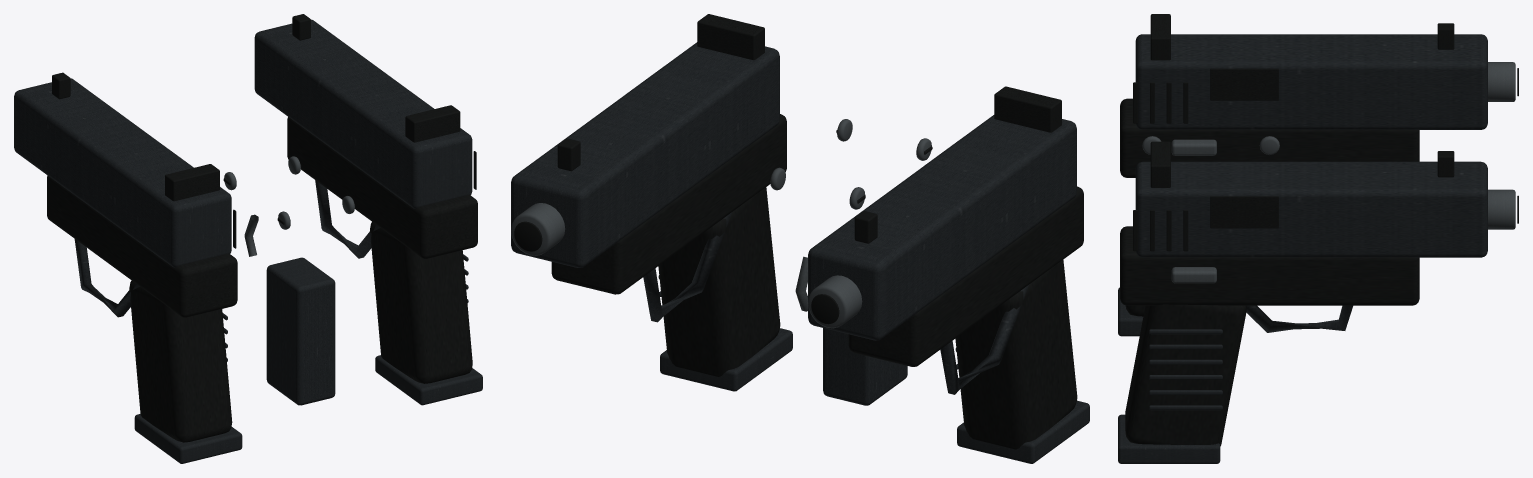
File: elite.glb
The picture shows the model from 3 angles, left to right: view 1: azimuth 30°, elevation 25°; view 2: azimuth 150°, elevation 25°; view 3: azimuth 270°, elevation 25°; orthographic projection. The views are drawn at different scales.
Parts seen in each view (by area): view 1: weapon_Polymer, slide_Weapon finish / Parkerized steel, magazine_Parkerized steel, slide_Polymer, weapon_Parkerized steel, weapon_Machined edges; view 2: slide_Weapon finish / Parkerized steel, weapon_Polymer, magazine_Parkerized steel, slide_Polymer, weapon_Machined edges, weapon_Parkerized steel; view 3: slide_Weapon finish / Parkerized steel, weapon_Polymer, slide_Polymer, weapon_Machined edges, weapon_Parkerized steel, magazine_Parkerized steel.
Boxes of the visible parts, <box> form: weapon_Polymer: <box>47,117,477,442</box>; slide_Weapon finish / Parkerized steel: <box>14,19,472,267</box>; magazine_Parkerized steel: <box>134,257,482,463</box>; slide_Polymer: <box>52,14,476,248</box>; weapon_Parkerized steel: <box>74,180,468,361</box>; weapon_Machined edges: <box>224,156,354,229</box>; slide_Weapon finish / Parkerized steel: <box>511,42,1076,340</box>; weapon_Polymer: <box>514,114,1083,449</box>; magazine_Parkerized steel: <box>660,328,1089,463</box>; slide_Polymer: <box>557,14,1061,243</box>; weapon_Machined edges: <box>511,119,931,328</box>; weapon_Parkerized steel: <box>643,212,1029,394</box>; slide_Weapon finish / Parkerized steel: <box>1135,34,1487,257</box>; weapon_Polymer: <box>1120,68,1518,446</box>; slide_Polymer: <box>1133,14,1454,251</box>; weapon_Machined edges: <box>1142,62,1515,283</box>; weapon_Parkerized steel: <box>1149,305,1352,410</box>; magazine_Parkerized steel: <box>1118,287,1220,463</box>.
Size of the model in its own units: 0.234 by 0.194 by 0.239.
4 materials, 4 textured.
